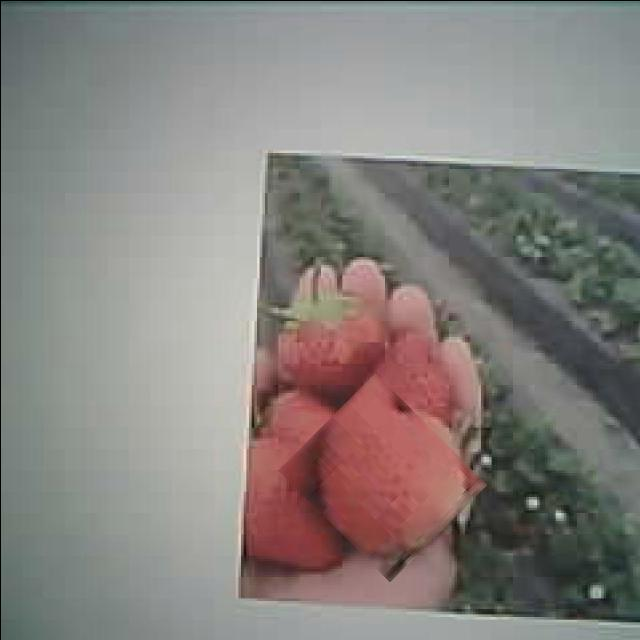strawberry: (290, 390, 473, 564)
